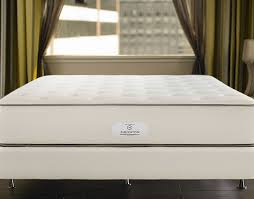bed-matress: (1, 71, 253, 148)
